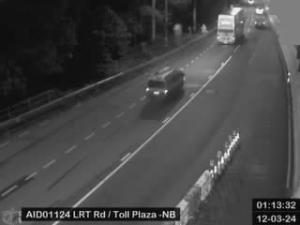bus: (216, 7, 246, 45)
vehicle: (144, 65, 186, 101), (255, 15, 268, 29)
